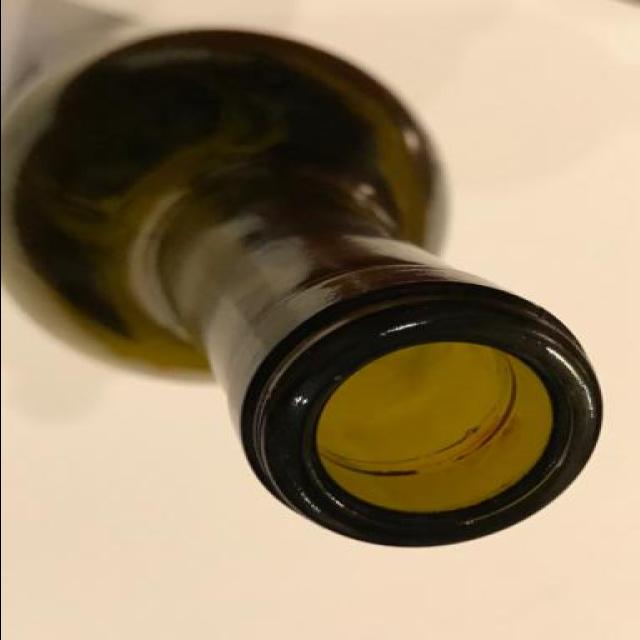glass: (6, 30, 608, 548)
